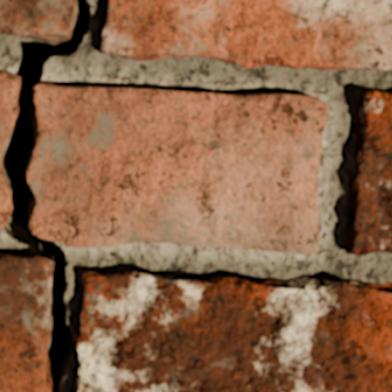brick: (75, 270, 391, 391), (101, 0, 391, 70), (345, 92, 391, 255), (0, 252, 52, 391), (0, 0, 73, 35)
broken_brick: (28, 80, 329, 255), (0, 71, 18, 156), (0, 170, 9, 229)
crack: (0, 0, 94, 391), (56, 85, 103, 93)
